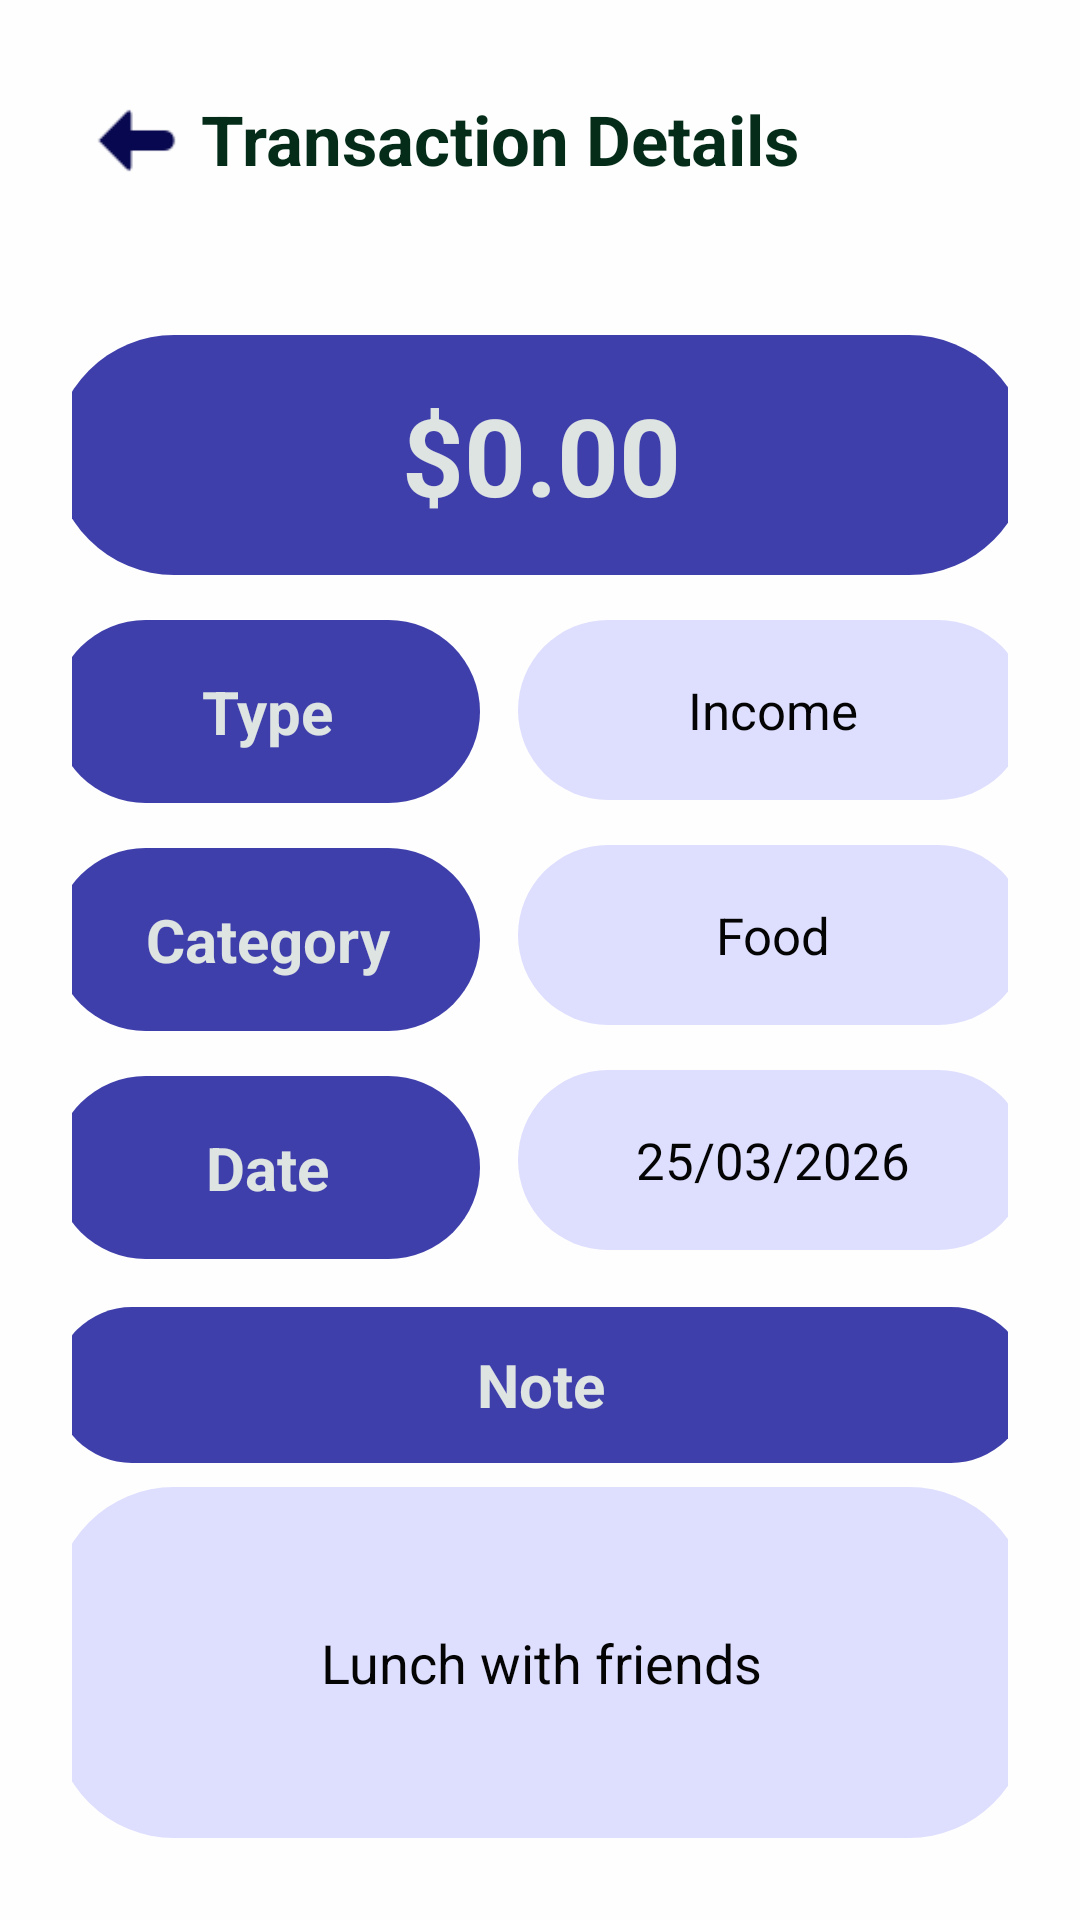

Named icons in this screenshot (1080*1920) and their centers, point (x, y):
arrow: point (136, 140)
